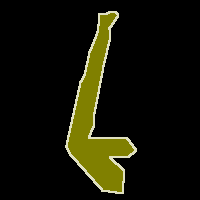tie: (66, 11, 136, 193)
